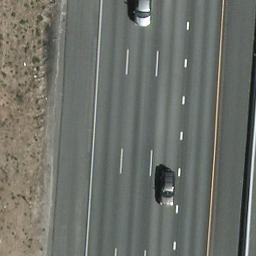car: (159, 171, 174, 207)
pickup: (136, 0, 153, 28)
